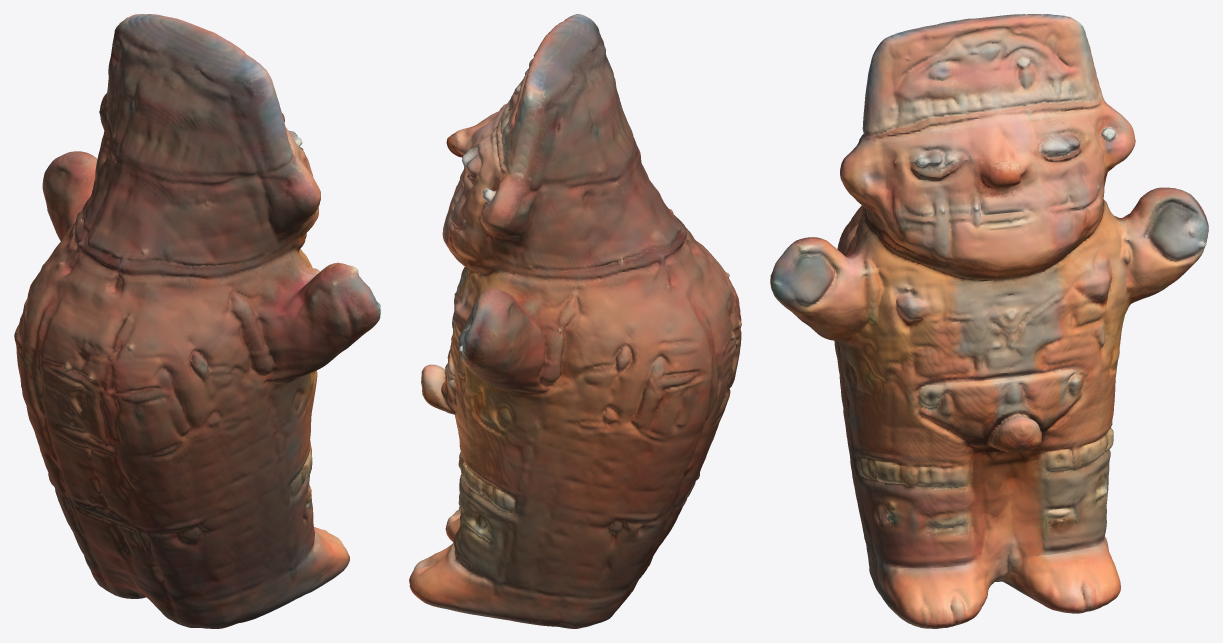
File: paracas1.glb
The picture shows the model from 3 angles, left to right: view 1: azimuth 30°, elevation 25°; view 2: azimuth 150°, elevation 25°; view 3: azimuth 270°, elevation 25°; orthographic projection. The views are drawn at different scales.
Size of the model in its own units: 0.5583 by 1.03 by 0.7146.
Materials: 1 (1 with a texture image).
